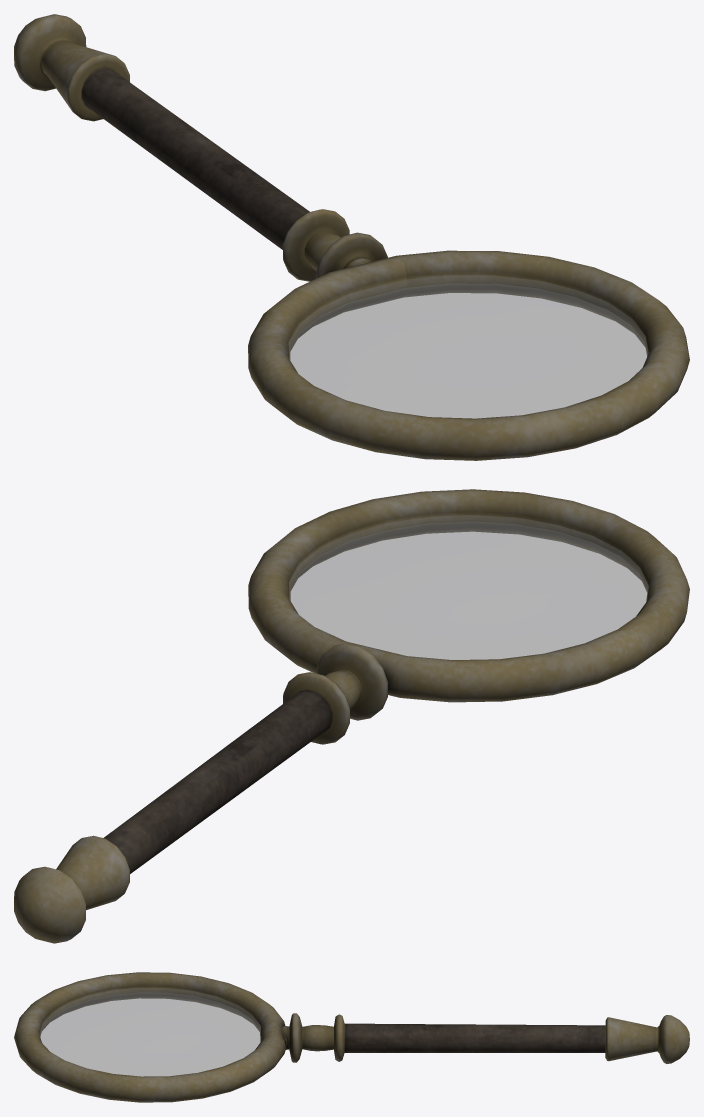
The model's file is Magnifying_Glass_01.fbx.
The picture shows the model from 3 angles, top to bottom: view 1: azimuth 30°, elevation 25°; view 2: azimuth 150°, elevation 25°; view 3: azimuth 270°, elevation 25°; orthographic projection. The views are drawn at different scales.
Visible parts, largest first — view 1: Magnifying_Glass; view 2: Magnifying_Glass; view 3: Magnifying_Glass.
Boxes of the visible parts, x1,y1,x2,y2 form: Magnifying_Glass: [14, 14, 689, 460]; Magnifying_Glass: [14, 489, 689, 943]; Magnifying_Glass: [14, 972, 689, 1102].
Bounding box in the file's own units: 7.93 × 1.47 × 19.63.
Materials: 2 (1 with a texture image).
